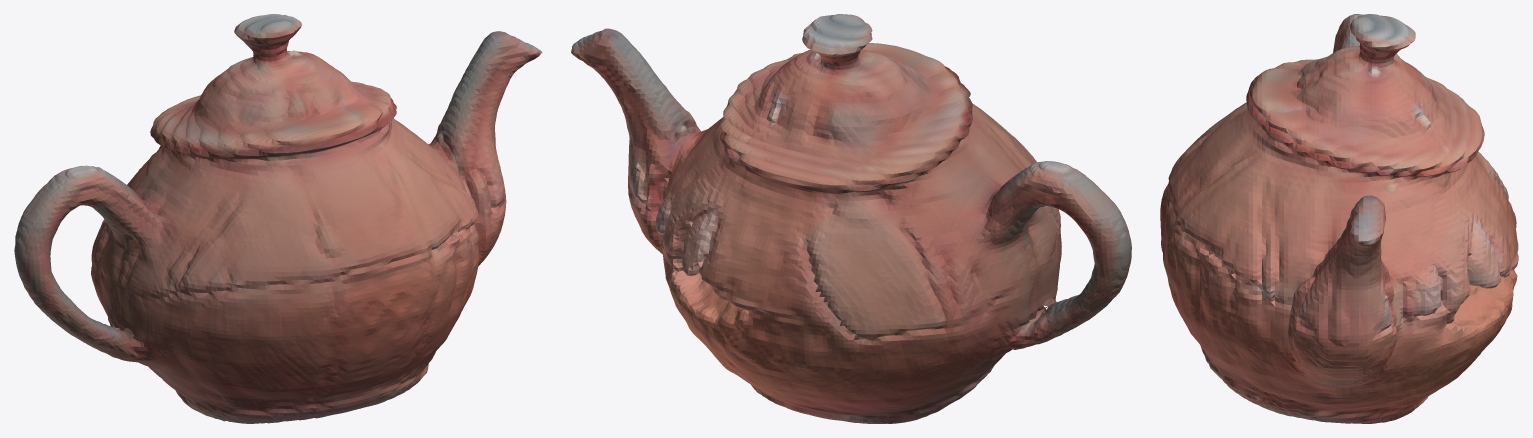
The picture shows the model from 3 angles, left to right: view 1: azimuth 30°, elevation 25°; view 2: azimuth 150°, elevation 25°; view 3: azimuth 270°, elevation 25°; orthographic projection. The views are drawn at different scales.
Parts seen in each view (by area): view 1: world; view 2: world; view 3: world.
Boxes of the visible parts, bbox=[...] form: world: bbox=[14, 14, 542, 423]; world: bbox=[571, 14, 1131, 423]; world: bbox=[1160, 14, 1518, 423].
Size of the model in its own units: 0.9487 by 0.6261 by 0.5548.
